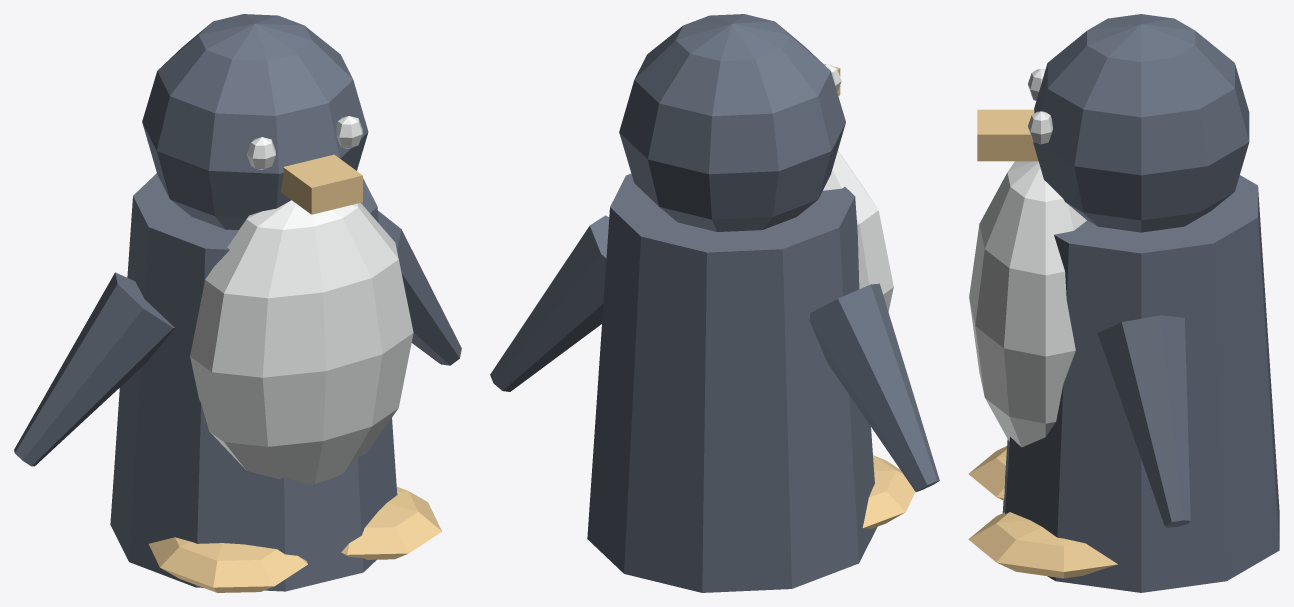
File: pinguino.glb
3 renders of one model, left to right at view 1: azimuth 30°, elevation 25°; view 2: azimuth 150°, elevation 25°; view 3: azimuth 270°, elevation 25°, orthographic.
Parts seen in each view (by area): view 1: pinguino; view 2: pinguino; view 3: pinguino.
Part boxes in pixels (box(x1,y1,x2,y2)): pinguino: box(14, 14, 461, 592); pinguino: box(490, 14, 939, 592); pinguino: box(968, 14, 1279, 592).
Bounding box in the file's own units: 1.13 × 1.23 × 0.6843.
